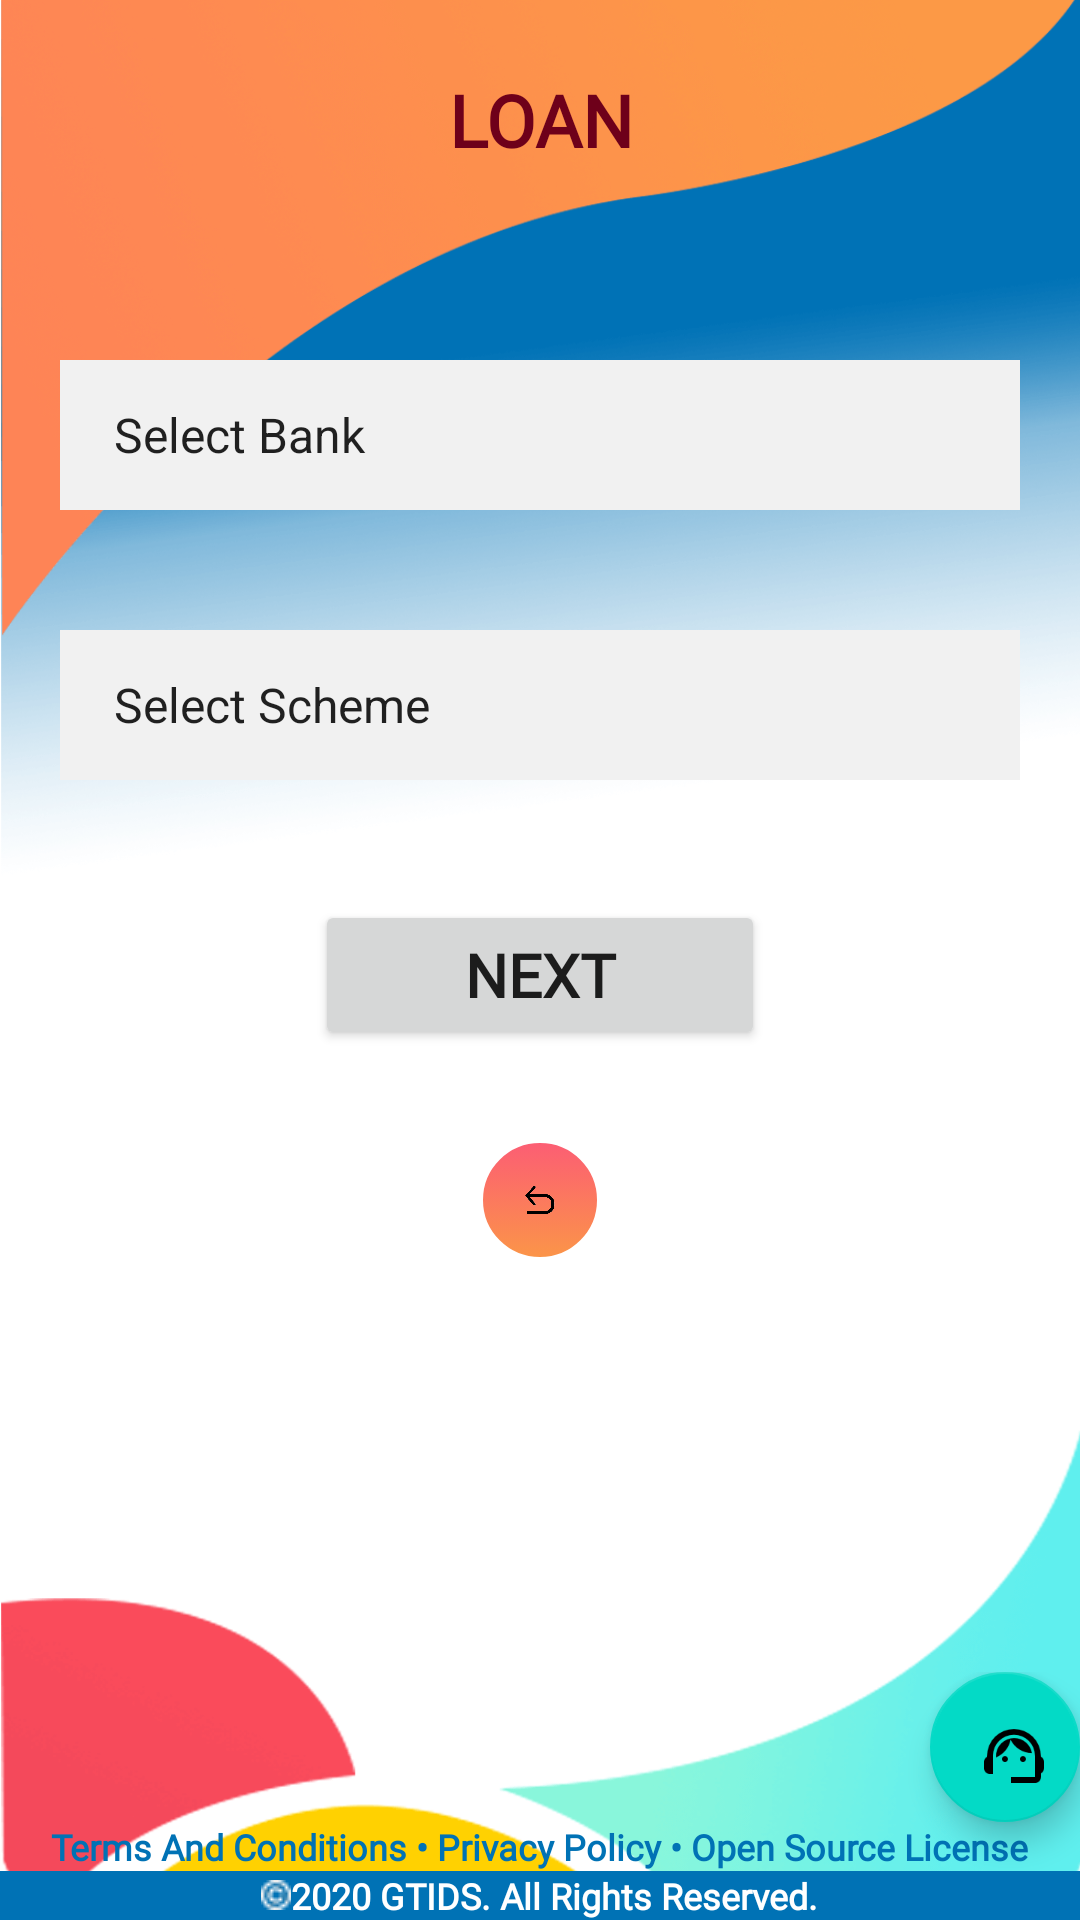

Icon click points for this 1080px×1920px phone screenshot, format point (x, y):
backarrow: point (540, 1200)
copyright: point (276, 1895)
support: point (1005, 1747)
